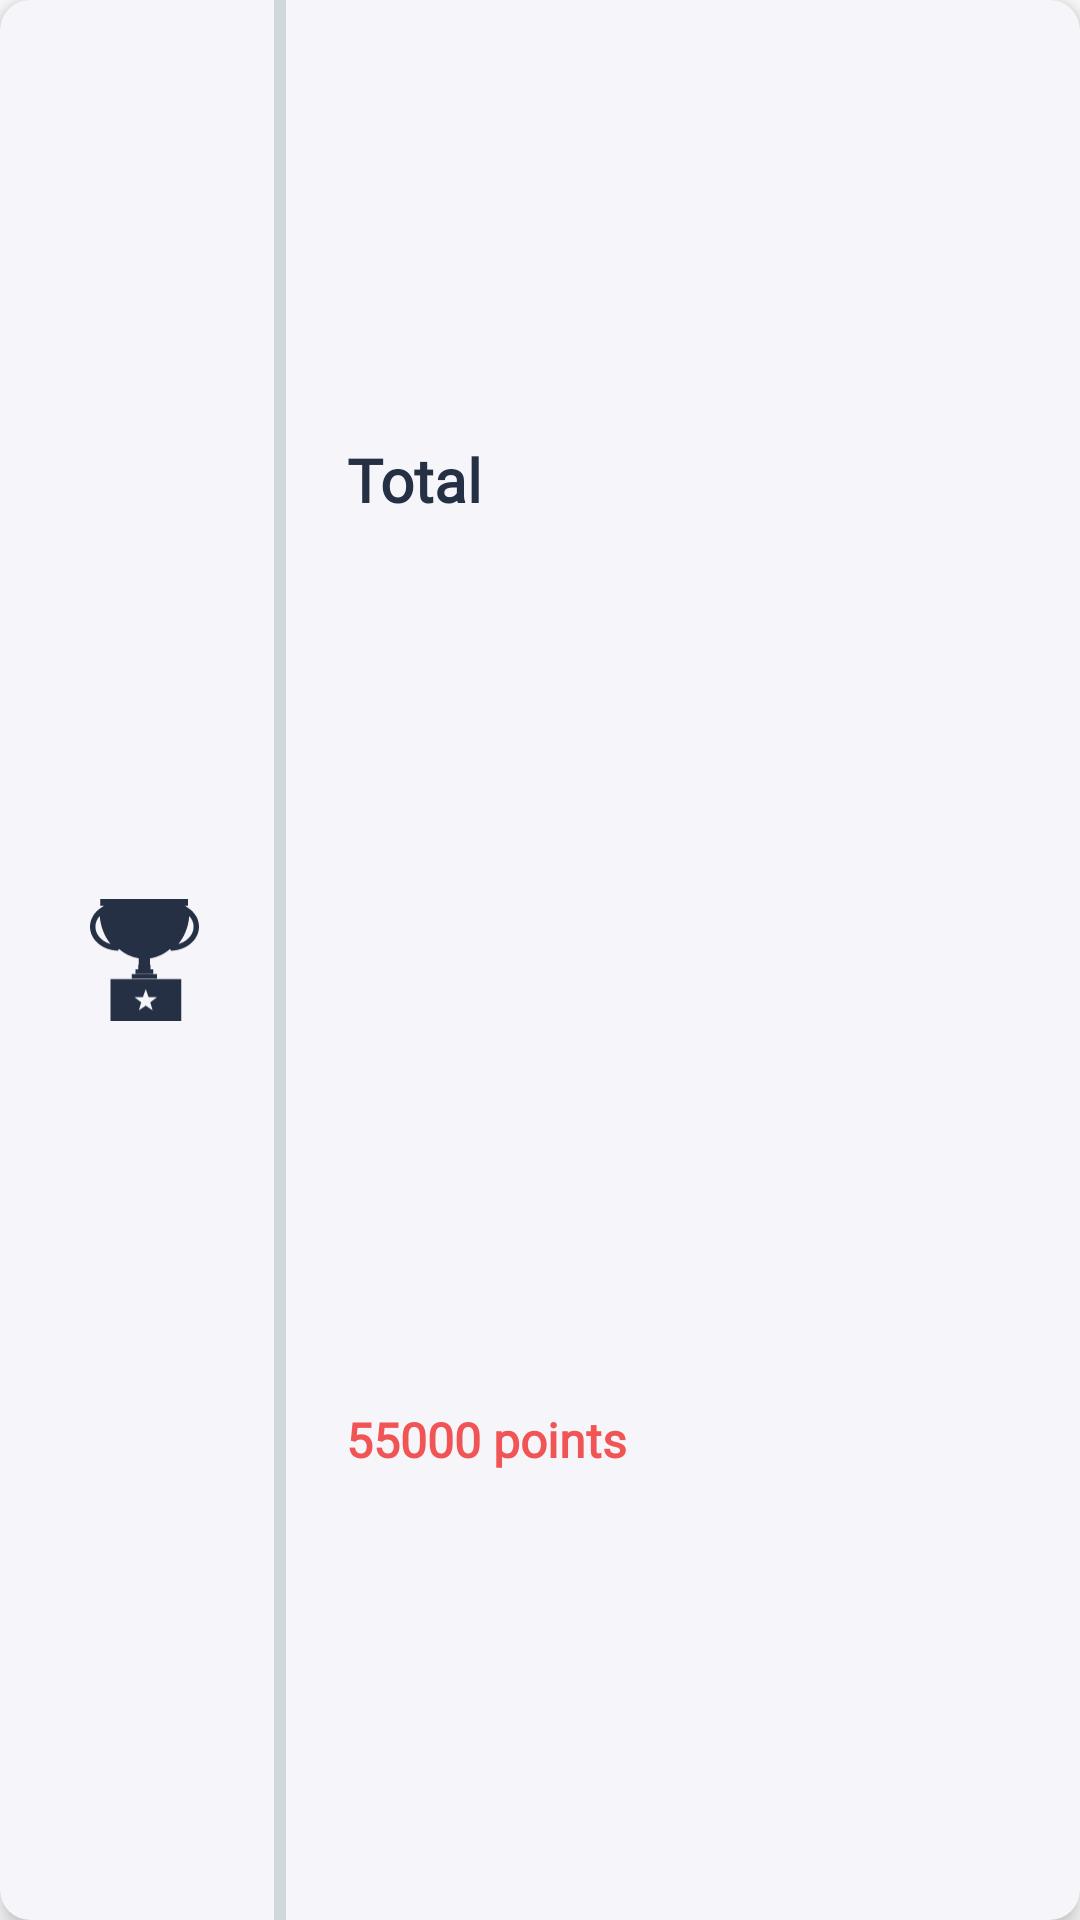

Point at icon controls on the screen. Image size 1080px×1920px, points as [x,y].
winning cup: [144,960]
